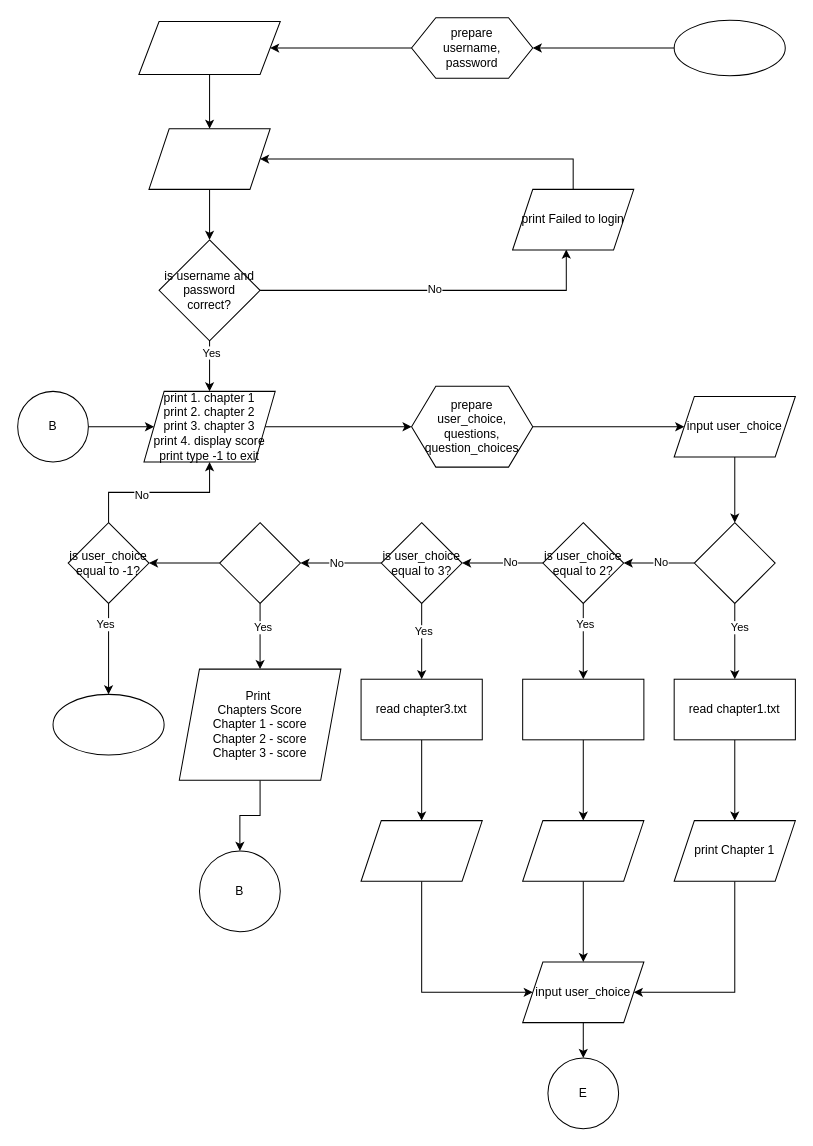
Image size: 813x1146. Some labels were removed from this diagram. The shapes that lost their labels are listed below. From the top down, each one's centre as x and y in pixels, then its label:
At (x=209, y=48): "print log in".
At (x=729, y=47): "start".
At (x=209, y=158): "input username and password".
At (x=259, y=562): "is user_choice equal to 4?".
At (x=734, y=562): "is user_choice equal to 1?".
At (x=108, y=724): "end".
At (x=583, y=709): "read chapter2.txt".
At (x=421, y=850): "Print Chapter 3".
At (x=583, y=850): "Print Chapter 2".
